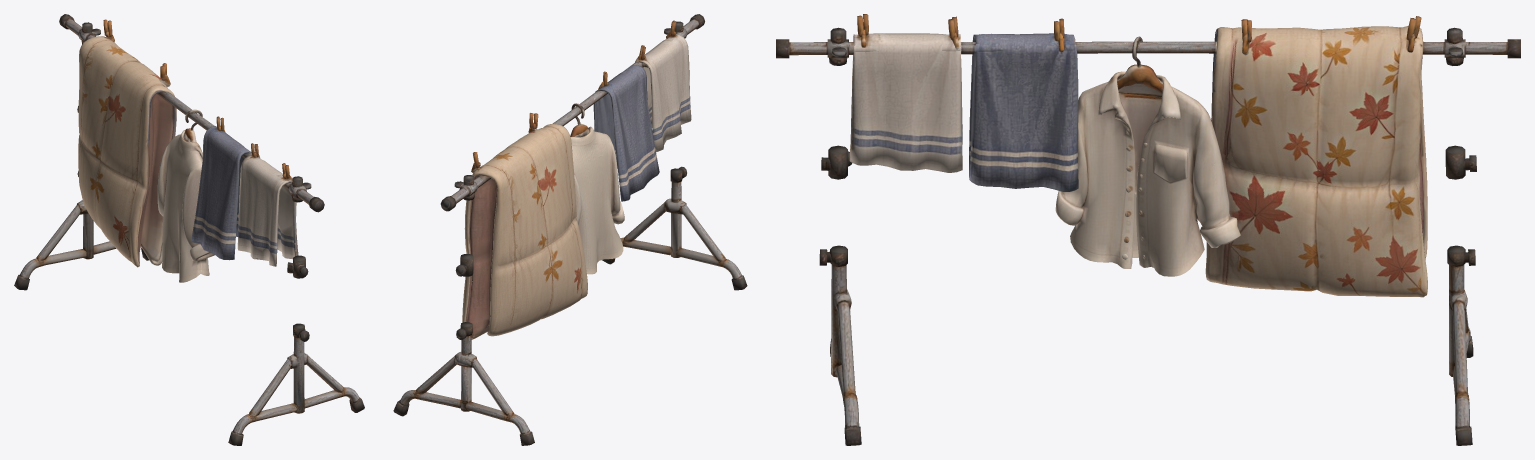
File: laundry_stand.glb
The picture shows the model from 3 angles, left to right: view 1: azimuth 30°, elevation 25°; view 2: azimuth 150°, elevation 25°; view 3: azimuth 270°, elevation 25°; orthographic projection. The views are drawn at different scales.
Parts seen in each view (by area): view 1: tripo_node_fd503357-732f-4693-93bd-30778d041d9e; view 2: tripo_node_fd503357-732f-4693-93bd-30778d041d9e; view 3: tripo_node_fd503357-732f-4693-93bd-30778d041d9e.
Part boxes in pixels (x1,y1,x2,y2): tripo_node_fd503357-732f-4693-93bd-30778d041d9e: [14, 14, 364, 445]; tripo_node_fd503357-732f-4693-93bd-30778d041d9e: [393, 14, 747, 445]; tripo_node_fd503357-732f-4693-93bd-30778d041d9e: [776, 14, 1520, 445].
Size of the model in its own units: 0.3149 by 0.5737 by 0.9995.
1 material, 1 textured.
